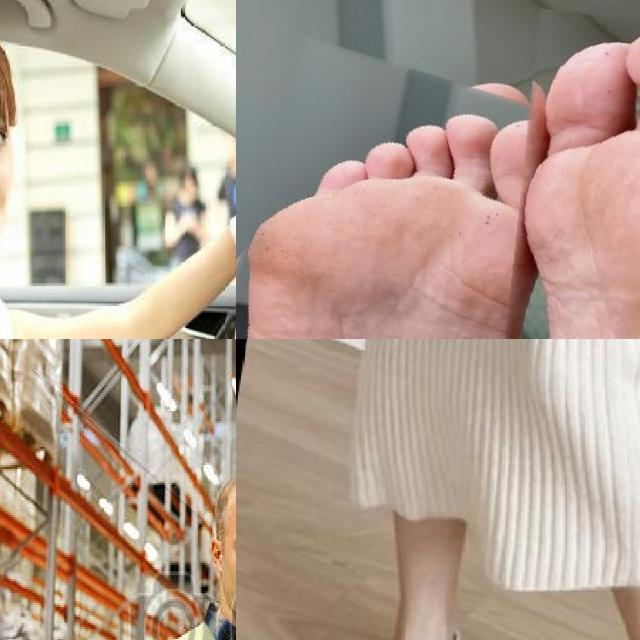Barefoots: (236, 46, 570, 339), (489, 12, 640, 339)
No_Ear-Protection: (211, 534, 222, 579)
No_Glasses: (212, 505, 236, 564)
head_nohelmet: (216, 477, 236, 540)
person: (0, 0, 236, 339)
